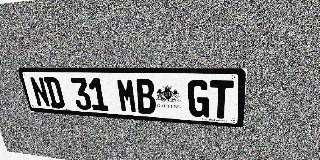1: (86, 78, 109, 111)
3: (70, 77, 92, 110)
B: (134, 79, 157, 114)
D: (43, 77, 66, 108)
G: (187, 80, 210, 118)
M: (116, 78, 138, 113)
N: (29, 77, 51, 107)
T: (210, 80, 234, 119)
